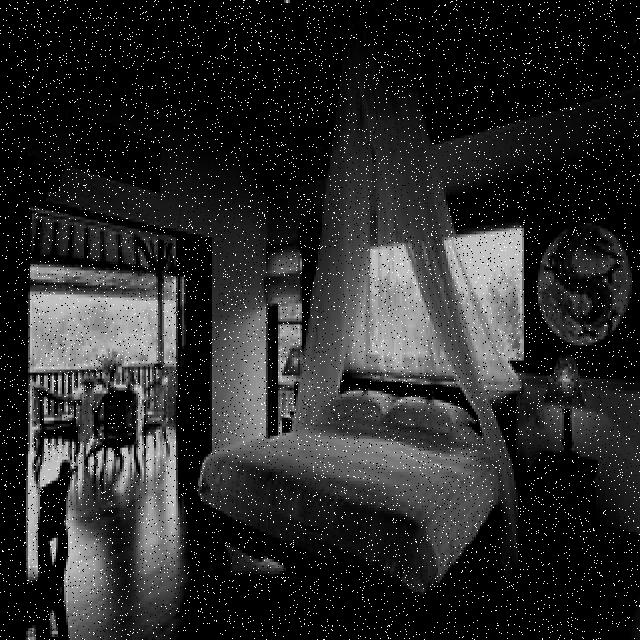bed: (208, 371, 520, 640)
